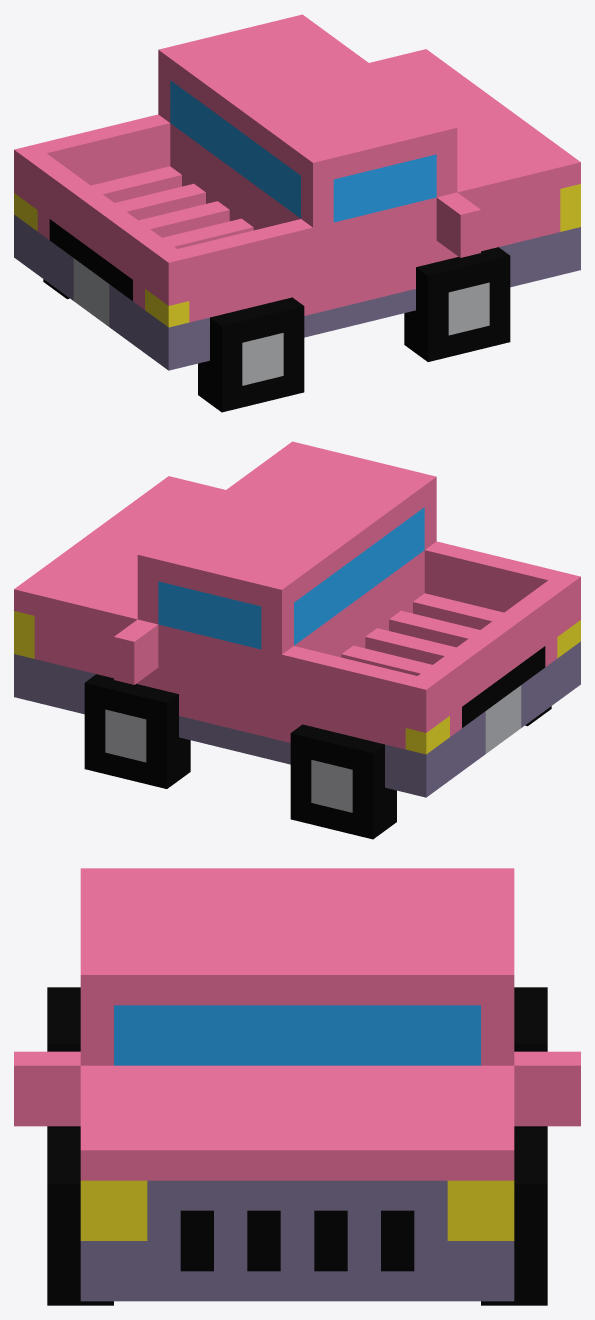
File: pickup_e.obj
The picture shows the model from 3 angles, top to bottom: view 1: azimuth 30°, elevation 25°; view 2: azimuth 150°, elevation 25°; view 3: azimuth 270°, elevation 25°; orthographic projection. The views are drawn at different scales.
Bounding box in the file's own units: 2 × 1 × 1.7.
Materials: 1 (1 with a texture image).
